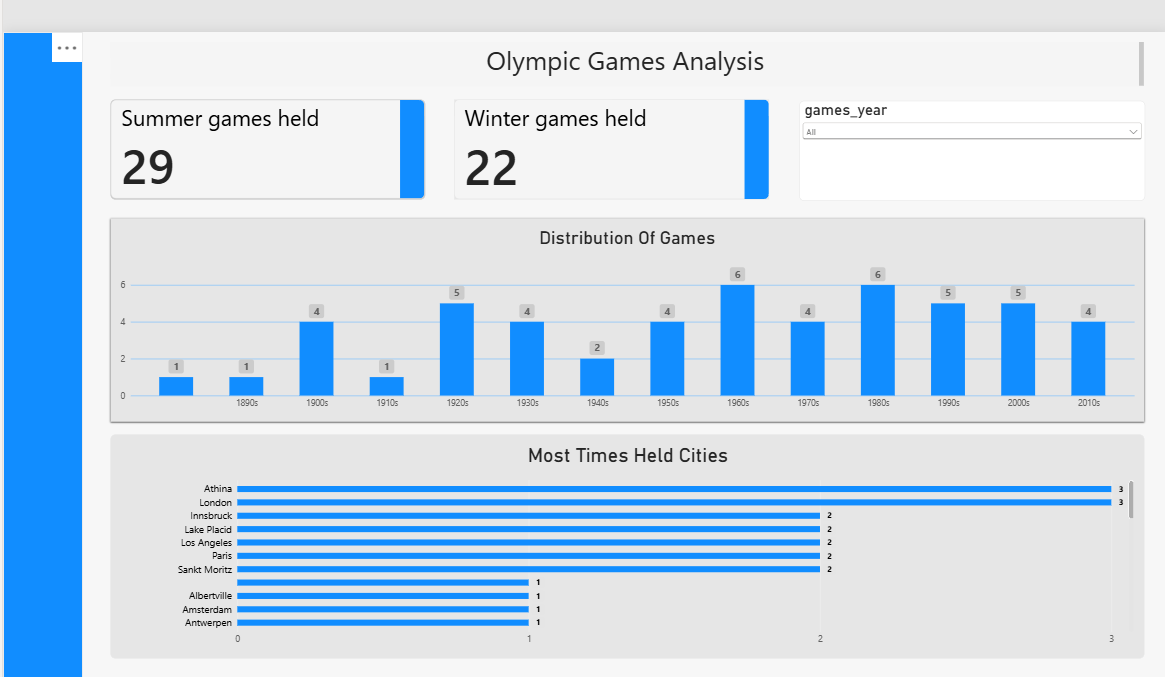

This screenshot's page, from the dashboard's own definition file:
{"tool":"powerbi","page":{"name":"Page 1","canvas":[1920,1080],"ordinal":0},"visuals":[{"type":"cardVisual","fields":{"Data":["MTable.Summer_games"]},"box":[177.9,111.2,518.3,164.6],"z":0},{"type":"cardVisual","fields":{"Data":["MTable.Winter_games_count"]},"box":[742.9,111.2,518.3,164.6],"z":1000},{"type":"clusteredColumnChart","title":"Distribution Of Games","fields":{"Category":["consolidated_fact.games_decade"],"Y":["Count(consolidated_fact.game_name)"]},"box":[177,306.7,1702.2,335.5],"z":2000},{"type":"clusteredBarChart","title":"Most Times Held Cities","fields":{"Category":["consolidated_fact.game_city"],"Y":["Count(consolidated_fact.game_name)"]},"box":[177,662.8,1702.2,368.4],"z":3000},{"type":"slicer","fields":{"Values":["consolidated_fact.games_year"]},"box":[1310.2,112.2,569.4,164.6],"z":4000},{"type":"shape","box":[0,0,131.2,1081],"z":5000},{"type":"textbox","box":[177.9,15.6,1701.6,73.4],"z":6000}]}

Visuals, with their boxes on the page's 1920x1080 design canvas (x1, y1, x2, y2). These are canvas units, not pixel positions in the 1165x677 screenshot, which may show the page scaled, cropped or inside an application window:
cardVisual - MTable.Summer_games: Rect(178, 111, 696, 276)
cardVisual - MTable.Winter_games_count: Rect(743, 111, 1261, 276)
"Distribution Of Games" clusteredColumnChart: Rect(177, 307, 1879, 642)
"Most Times Held Cities" clusteredBarChart: Rect(177, 663, 1879, 1031)
slicer - consolidated_fact.games_year: Rect(1310, 112, 1880, 277)
shape: Rect(0, 0, 131, 1081)
textbox: Rect(178, 16, 1880, 89)
